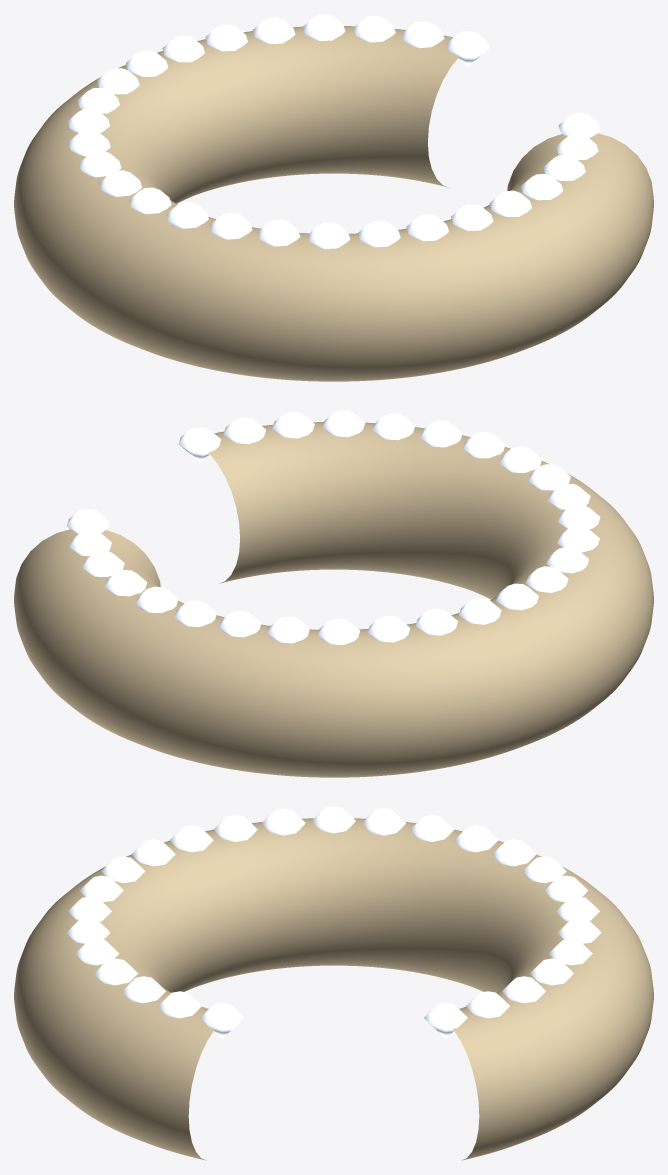
File: cuff.glb
3 views of the same model, one above another, from view 1: azimuth 30°, elevation 25°; view 2: azimuth 150°, elevation 25°; view 3: azimuth 270°, elevation 25° (orthographic).
Parts seen in each view (by area): view 1: jewel; view 2: jewel; view 3: jewel.
Boxes of the visible parts, <box> form: jewel: <box>14,14,653,381</box>; jewel: <box>14,410,653,777</box>; jewel: <box>14,806,653,1160</box>.
Size of the model in its own units: 2.46 by 0.663 by 2.6.
